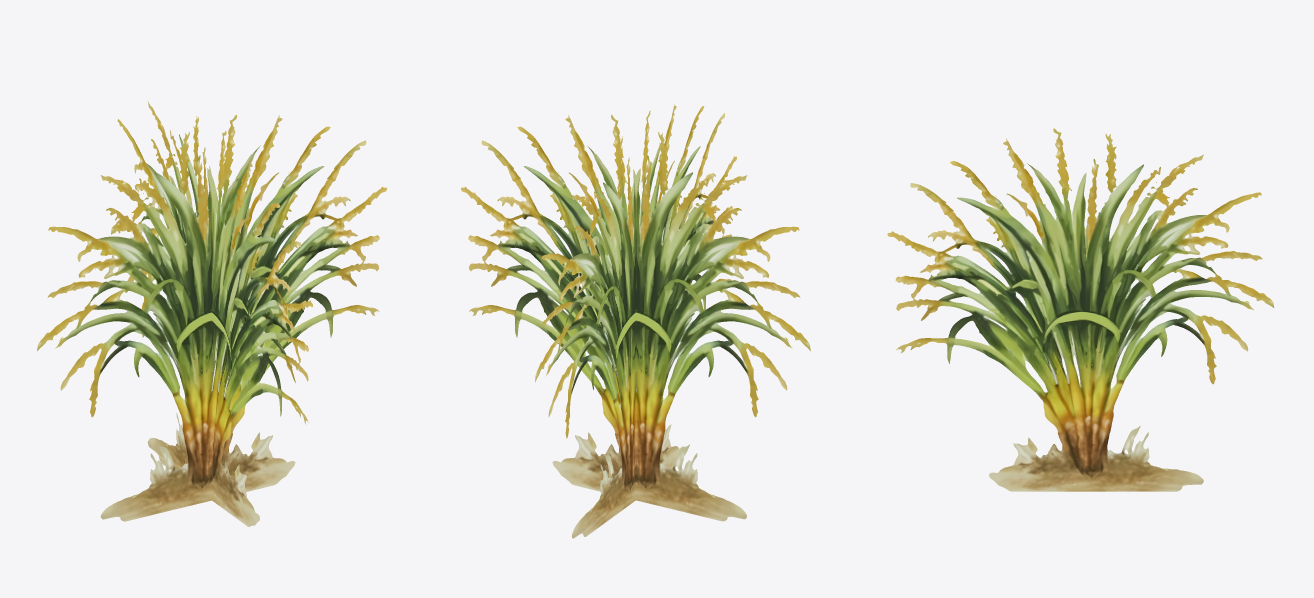
The model's file is Garden.fbx.
3 renders of one model, left to right at view 1: azimuth 30°, elevation 25°; view 2: azimuth 150°, elevation 25°; view 3: azimuth 270°, elevation 25°, orthographic. The views are drawn at different scales.
Visible parts, largest first — view 1: Garden; view 2: Garden; view 3: Garden.
Boxes of the visible parts, box(x1,y1,x2,y2) form: Garden: box(37, 101, 386, 526); Garden: box(461, 104, 810, 538); Garden: box(887, 128, 1274, 491).
Size of the model in its own units: 200 by 200 by 195.
